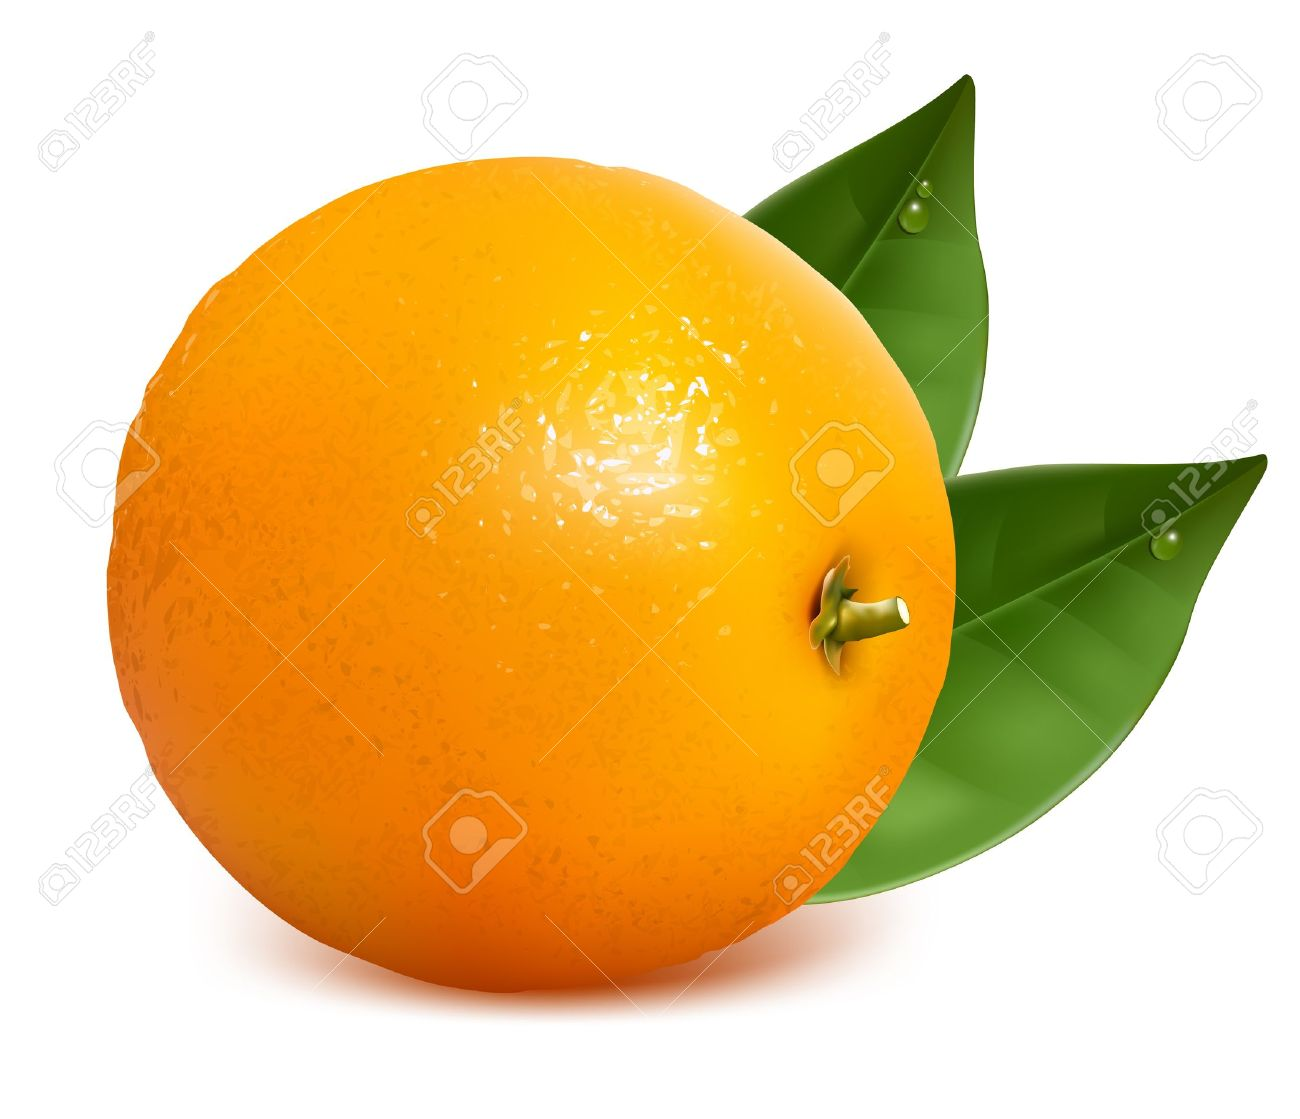orange: (62, 136, 982, 1008)
